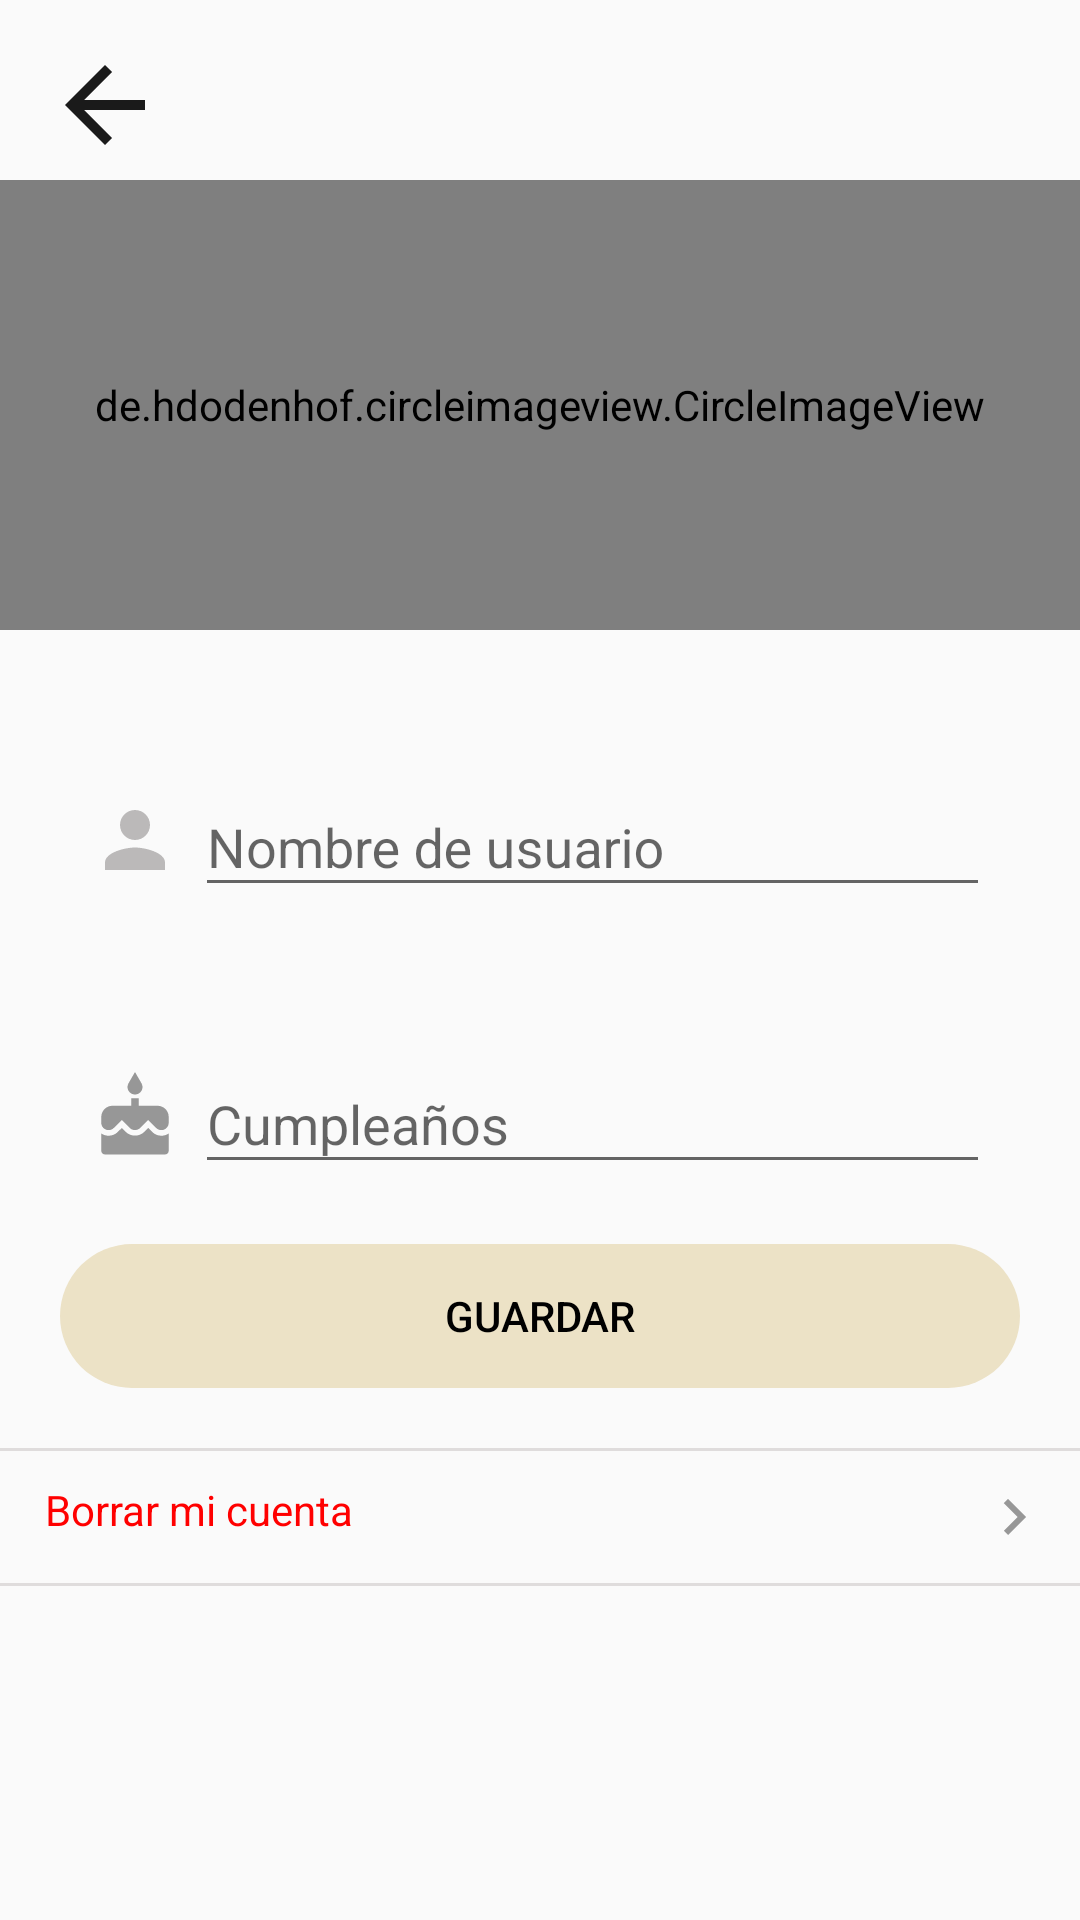

Icon bounding boxes for this 1080*1920 phone screenshot, format (left=x1, top=y1, right=x2, bottom=y2):
arrow back: (left=65, top=65, right=145, bottom=145)
cake: (left=101, top=1072, right=169, bottom=1155)
person: (left=105, top=810, right=165, bottom=870)
